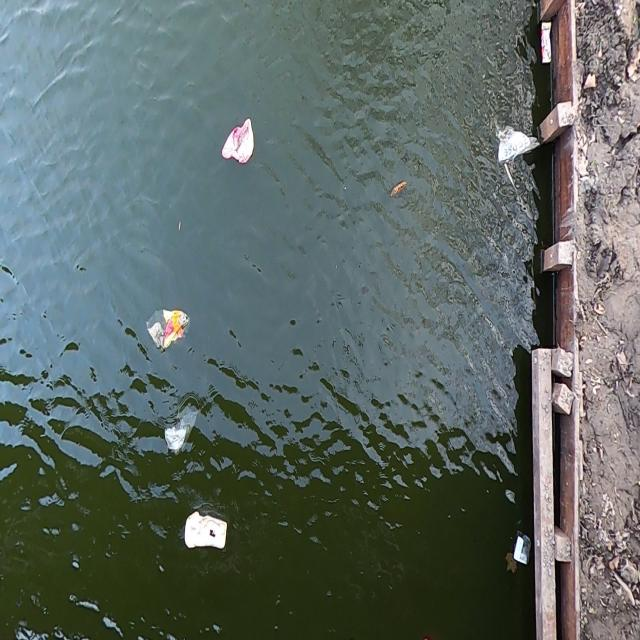Autre plastique: (512, 530, 533, 569)
Sac plastique: (159, 396, 203, 459), (144, 301, 192, 357), (492, 120, 543, 172), (218, 110, 260, 172)
